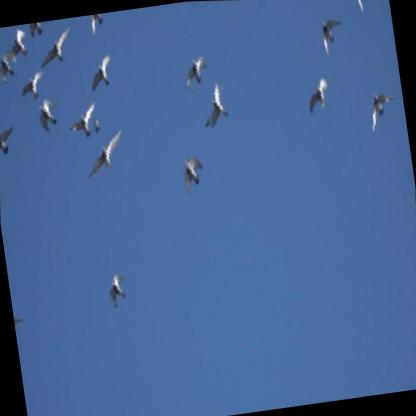bird: (81, 119, 128, 188), (36, 18, 79, 75), (362, 84, 404, 139), (197, 78, 238, 134), (178, 43, 217, 97), (300, 71, 337, 121), (99, 265, 135, 315), (64, 94, 102, 141), (176, 148, 210, 198), (84, 48, 118, 93), (32, 93, 64, 136), (315, 12, 346, 56), (18, 64, 49, 102), (6, 26, 35, 64), (84, 12, 116, 38), (0, 48, 21, 87), (13, 310, 31, 347), (0, 122, 19, 157), (28, 20, 53, 39)
